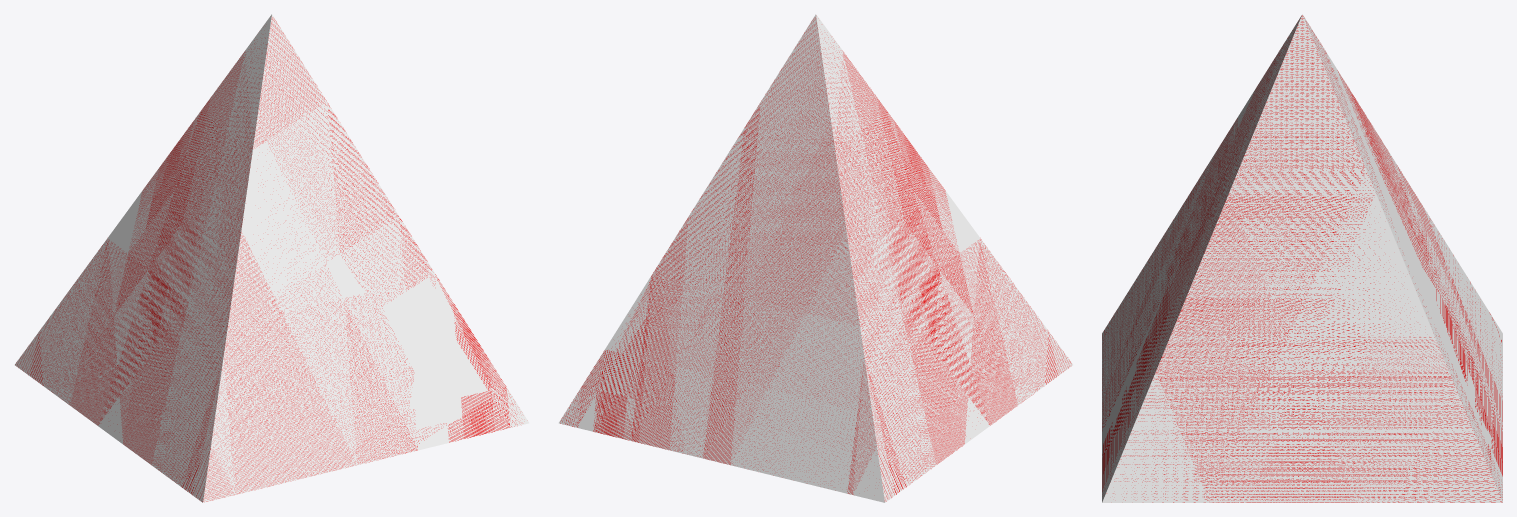
File: RedPyramid.dae
3 views of the same model, side by side, from view 1: azimuth 30°, elevation 25°; view 2: azimuth 150°, elevation 25°; view 3: azimuth 270°, elevation 25° (orthographic). The views are drawn at different scales.
Visible parts, largest first — view 1: SketchUp; view 2: SketchUp; view 3: SketchUp.
Part boxes in pixels (left/top/right/bottom): SketchUp: left=15, top=14, right=528, bottom=502; SketchUp: left=559, top=14, right=1072, bottom=502; SketchUp: left=1102, top=14, right=1502, bottom=502.
Size of the model in its own units: 18.88 by 18.88 by 21.
